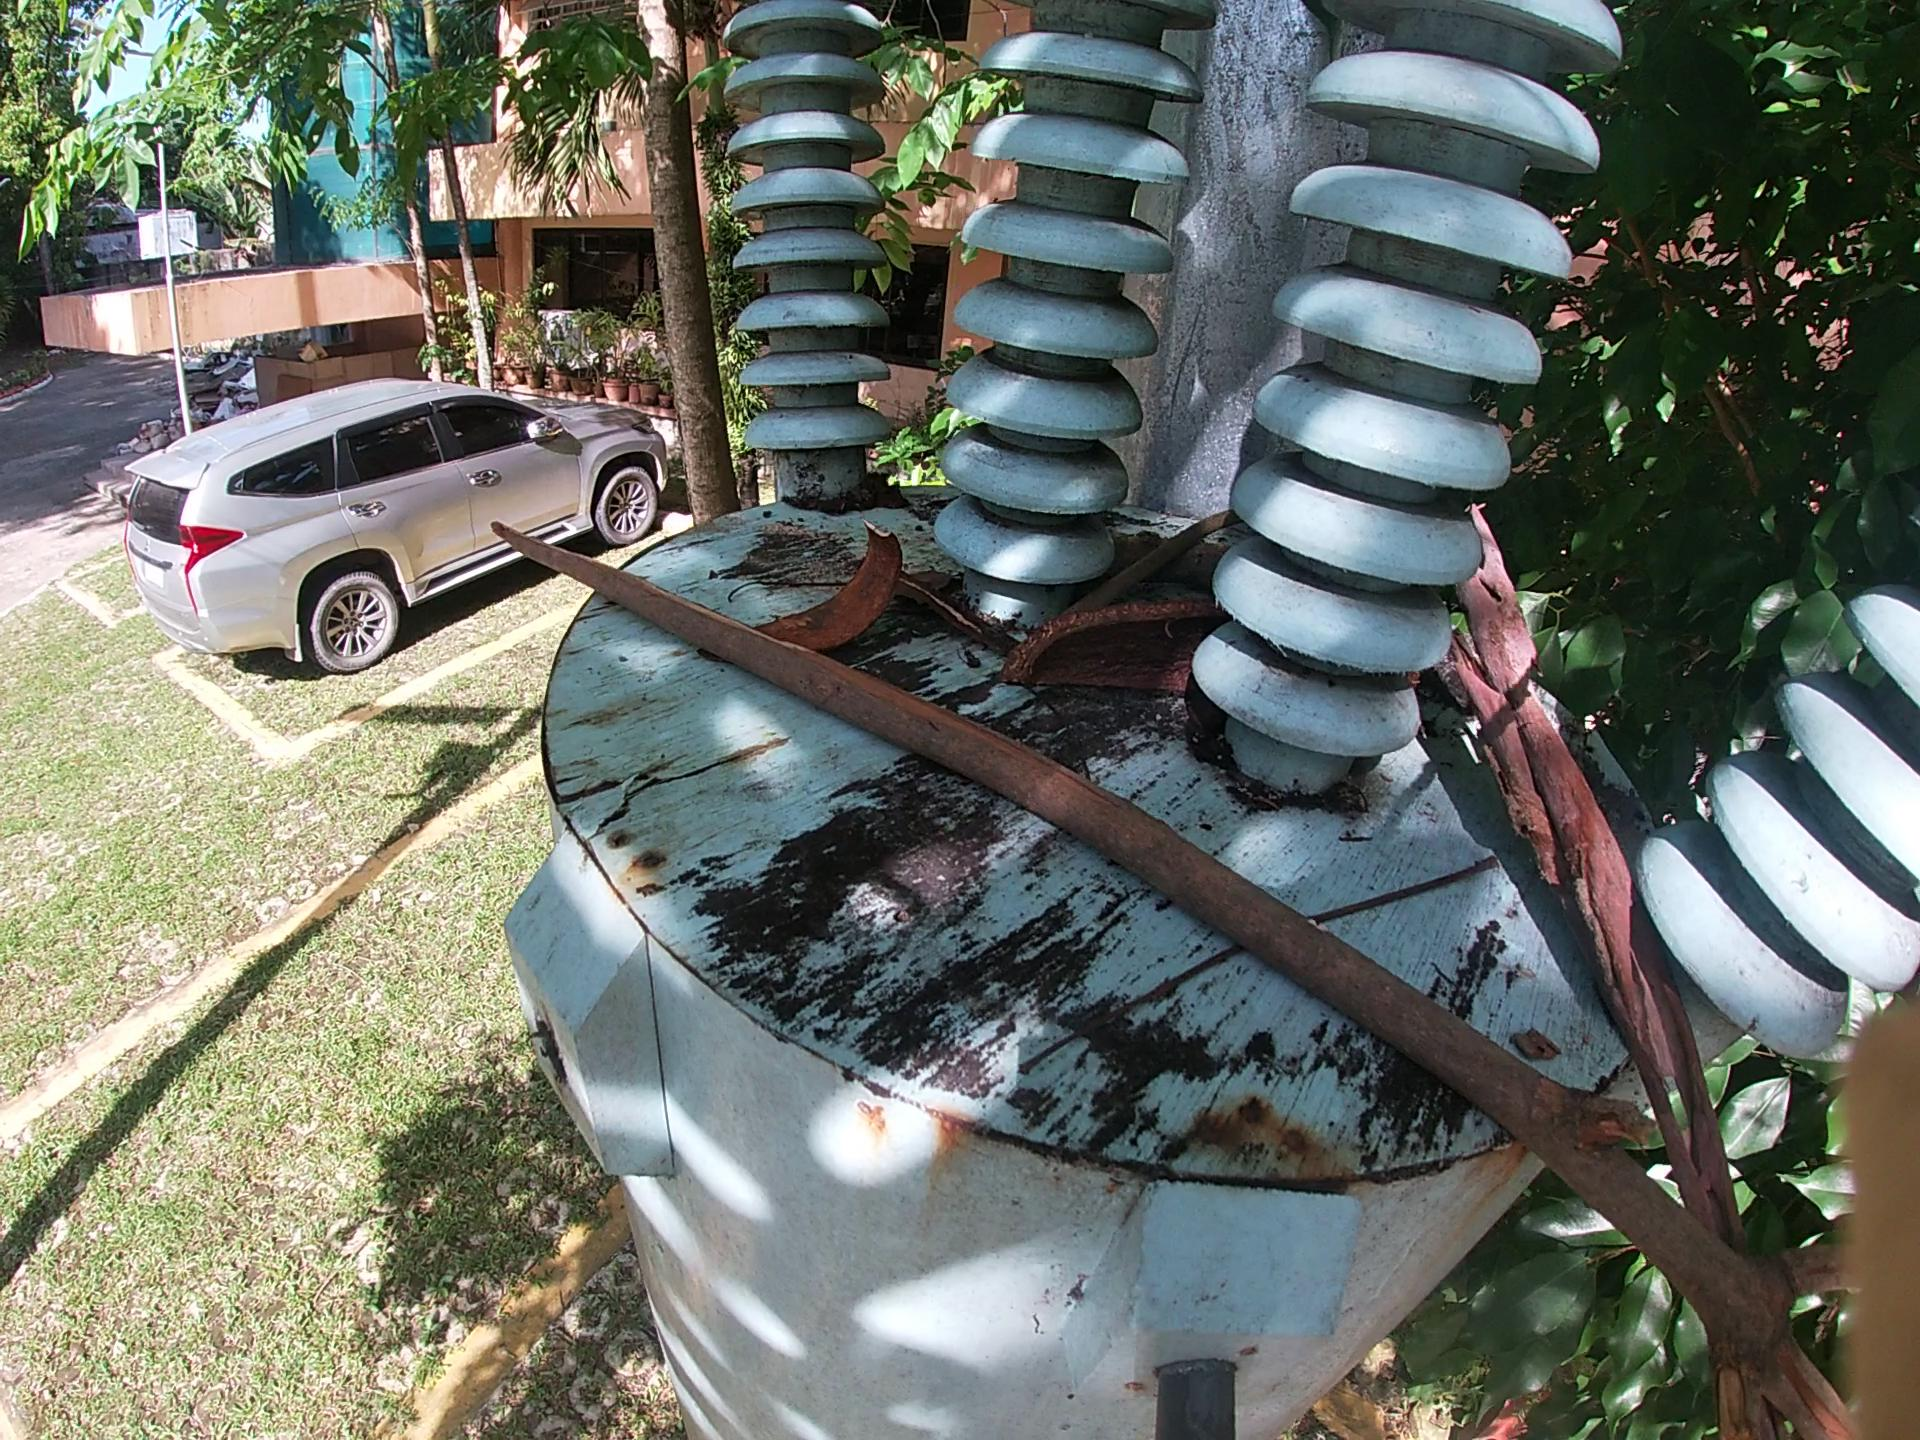mahogany fruit: (1001, 607, 1231, 700), (756, 517, 918, 643)
tree branch: (461, 516, 1906, 1440), (1442, 484, 1838, 1435), (974, 849, 1495, 1094), (1042, 493, 1238, 616), (915, 572, 1005, 666), (729, 573, 850, 597)
